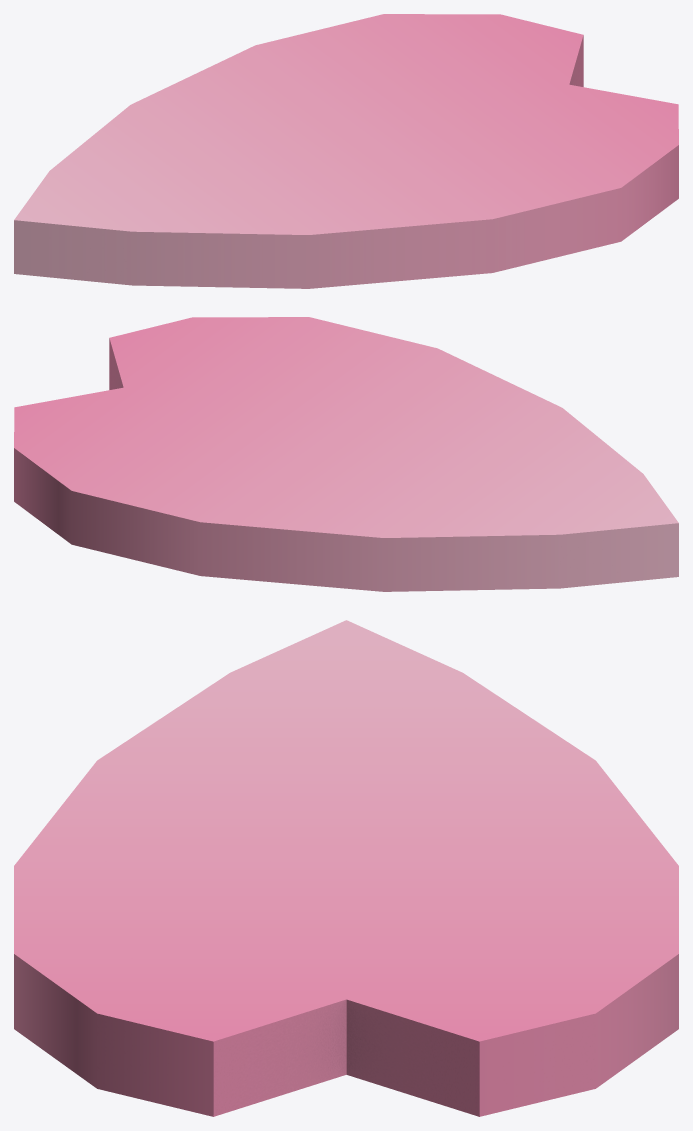
File: petal_pink.fbx
3 views of the same model, one above another, from view 1: azimuth 30°, elevation 25°; view 2: azimuth 150°, elevation 25°; view 3: azimuth 270°, elevation 25° (orthographic). The views are drawn at different scales.
Parts seen in each view (by area): view 1: petal_pink; view 2: petal_pink; view 3: petal_pink.
Part boxes in pixels (x1,y1,x2,y2): petal_pink: (14,14,678,288); petal_pink: (14,317,678,591); petal_pink: (14,620,678,1116).
Size of the model in its own units: 120 by 10 by 80.
Materials: 1 (1 with a texture image).
